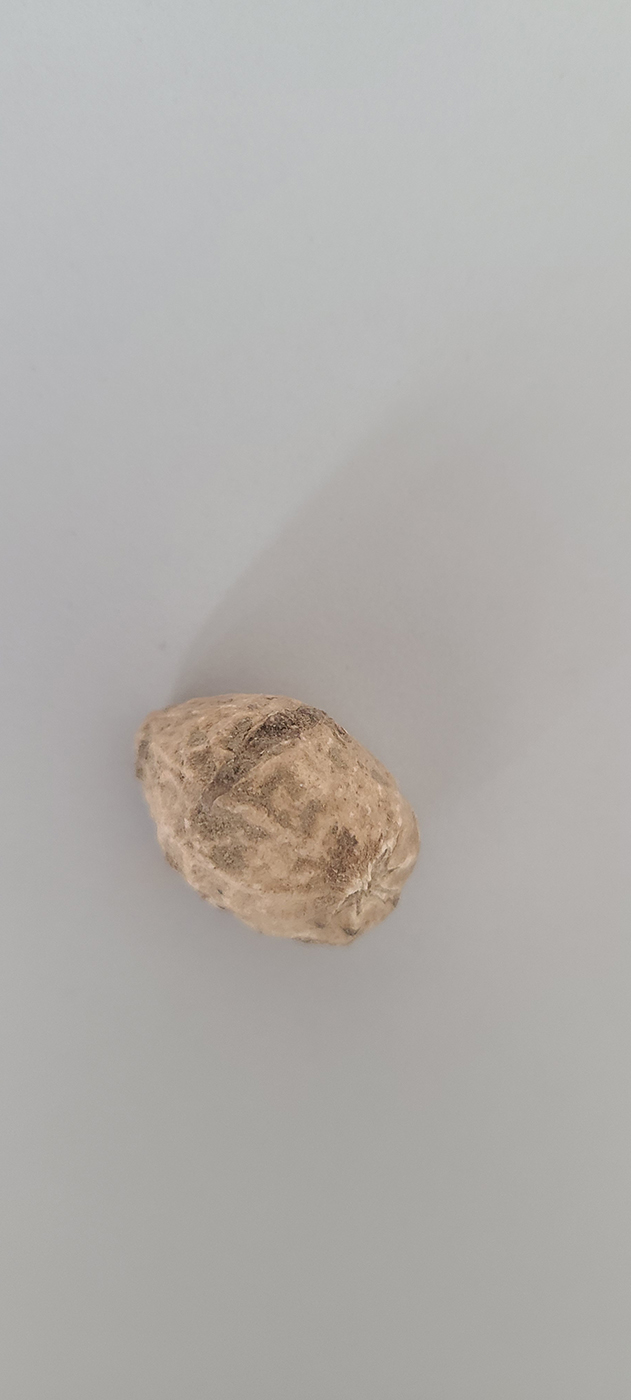h: (129, 689, 423, 945)
